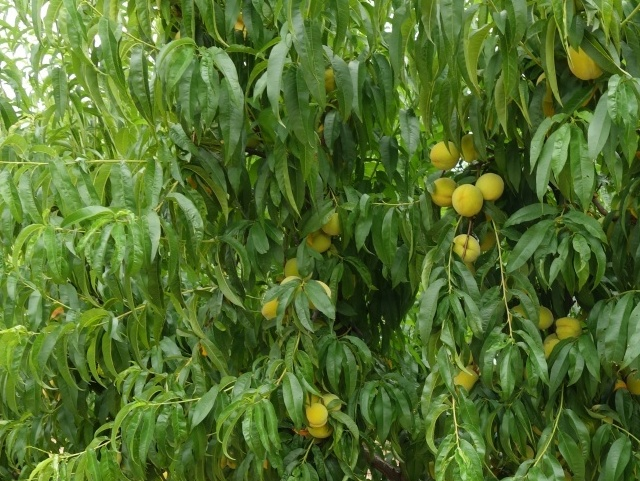peach: (562, 36, 604, 86), (424, 136, 464, 174), (449, 129, 487, 168), (450, 182, 489, 219), (423, 174, 459, 213), (447, 228, 482, 268), (469, 172, 506, 205), (302, 224, 338, 257), (553, 313, 586, 347), (280, 254, 314, 286), (447, 365, 481, 397), (316, 211, 348, 241), (302, 414, 333, 444), (298, 402, 329, 428), (540, 326, 571, 352), (530, 301, 557, 330), (317, 388, 344, 414)
